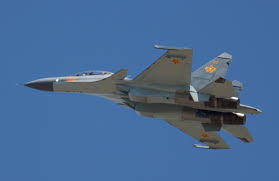maybay_muctieu: (18, 44, 269, 155)
